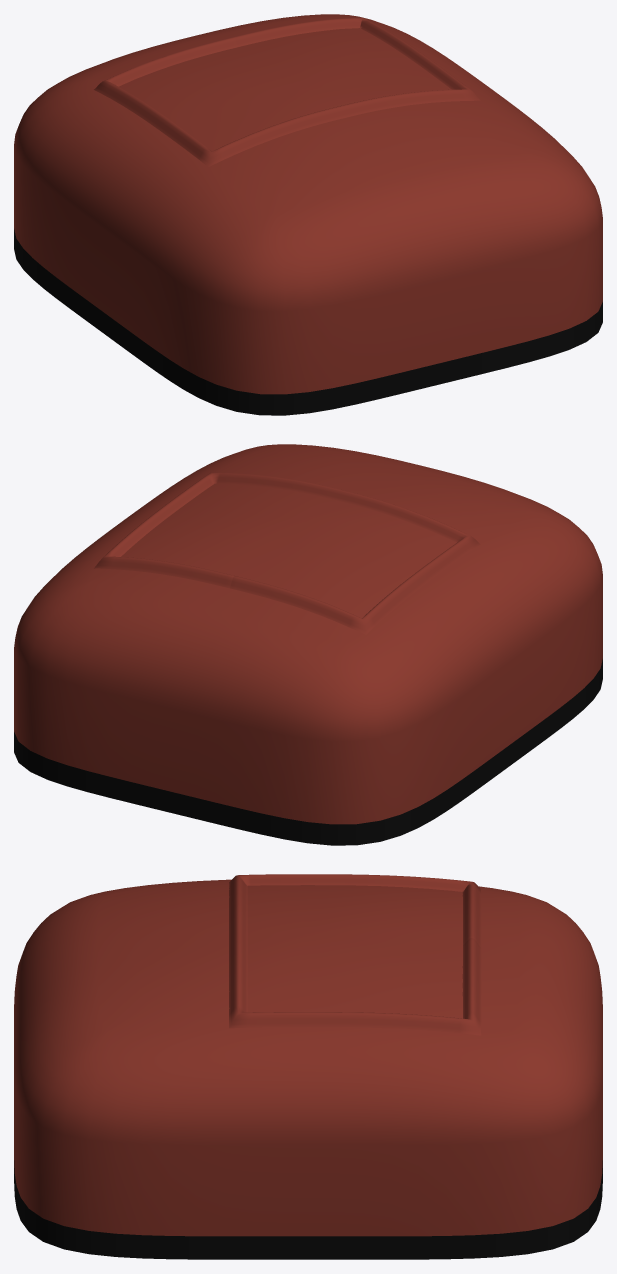
File: block_red.glb
3 renders of one model, top to bottom at view 1: azimuth 30°, elevation 25°; view 2: azimuth 150°, elevation 25°; view 3: azimuth 270°, elevation 25°, orthographic. The views are drawn at different scales.
Parts seen in each view (by area): view 1: block, panel; view 2: block, panel; view 3: block, panel.
Boxes of the visible parts, x1,y1,x2,y2 form: block: (14, 14, 602, 415); panel: (94, 17, 480, 166); block: (14, 444, 602, 845); panel: (94, 472, 480, 634); block: (14, 879, 602, 1259); panel: (229, 874, 481, 1035).
Size of the model in its own units: 22 by 10.52 by 25.2.
